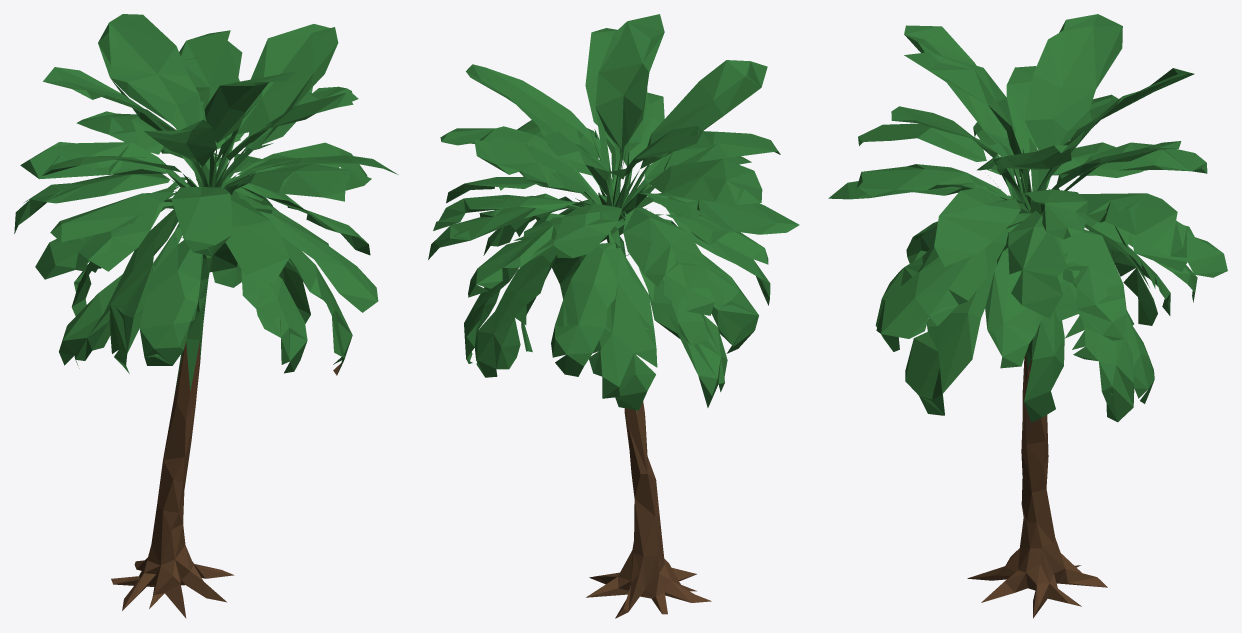
Rendered from tree-2.glb.
3 renders of one model, left to right at view 1: azimuth 30°, elevation 25°; view 2: azimuth 150°, elevation 25°; view 3: azimuth 270°, elevation 25°, orthographic. The views are drawn at different scales.
Visible parts, largest first — view 1: output_unwrapped; view 2: output_unwrapped; view 3: output_unwrapped.
Part boxes in pixels (x1,y1,x2,y2): output_unwrapped: (14, 14, 398, 618); output_unwrapped: (428, 14, 799, 618); output_unwrapped: (828, 14, 1227, 618).
Bounding box in the file's own units: 4.54 × 7 × 4.54.
